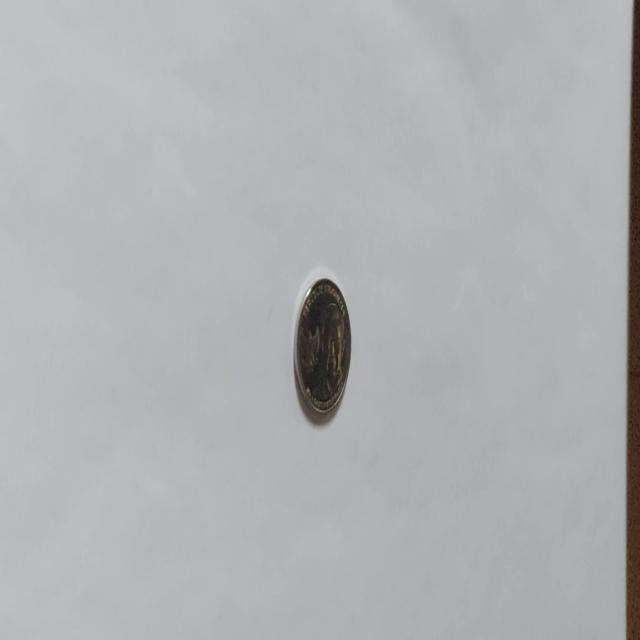seribu rupiah koin: (293, 274, 352, 416)
